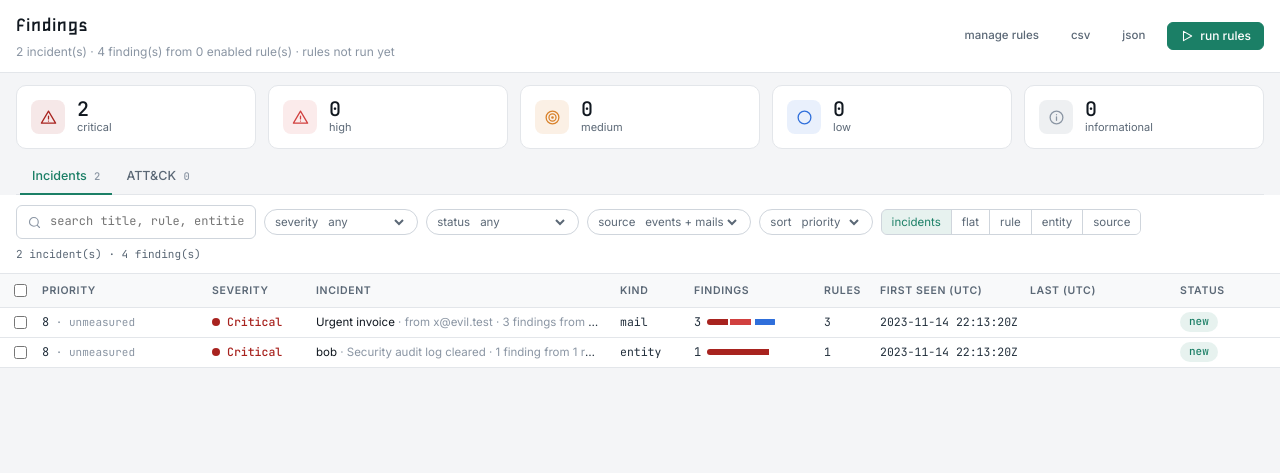
Scenario: FindingsView › switches to the rule grouping and expands a rule to its findings
Click the button "rule" at (1010, 222), box [989,210,1031,234]
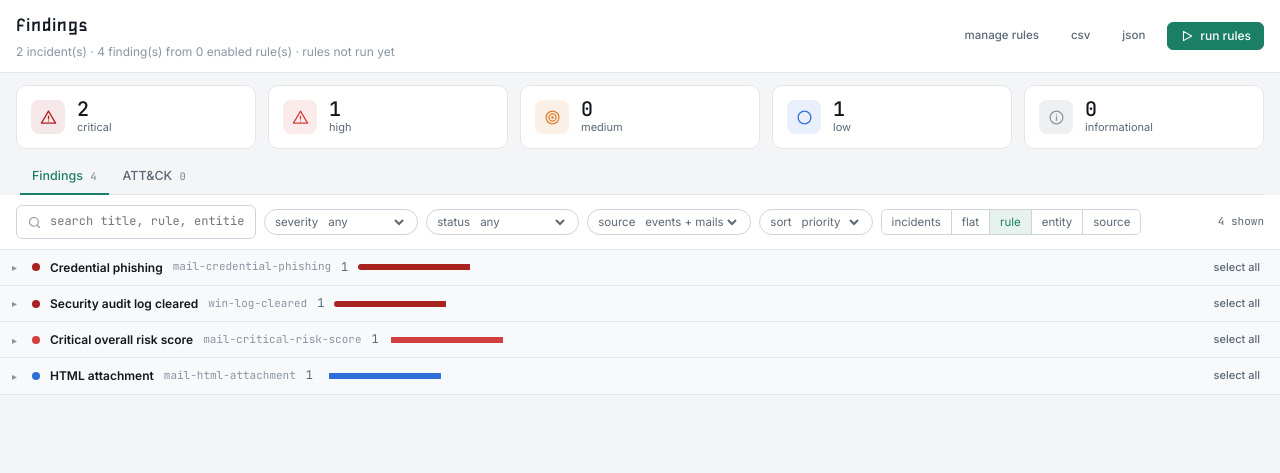
expect the number of elements with class "group-row" is 4: met, box [0,250,1279,286]; [0,286,1279,322]; [0,322,1279,358]; [0,358,1279,395]
Click the text "Credential phishing" at (106, 267), box [50,259,163,276]
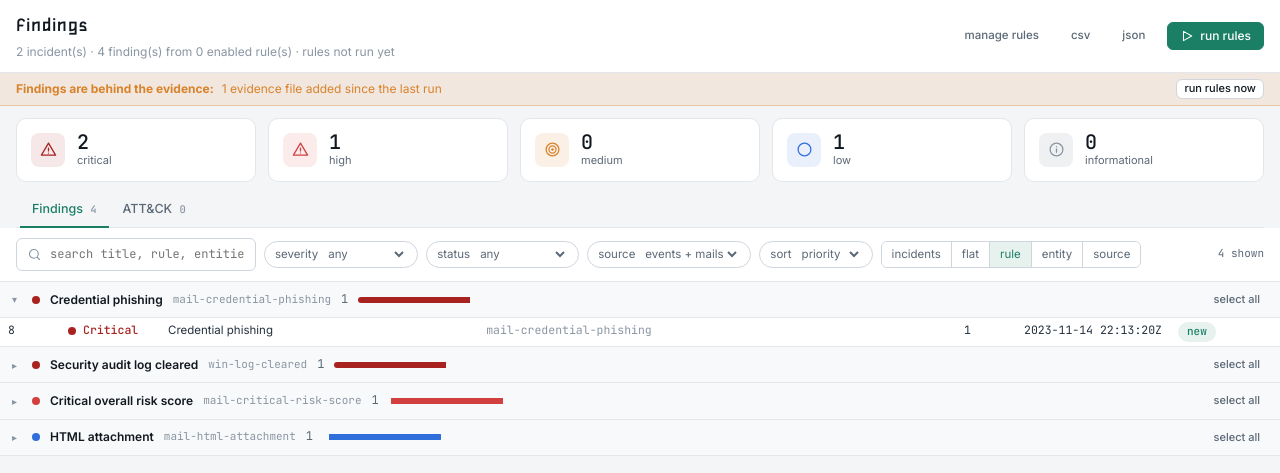
expect the table is shown: met, box [0,318,1279,347]
